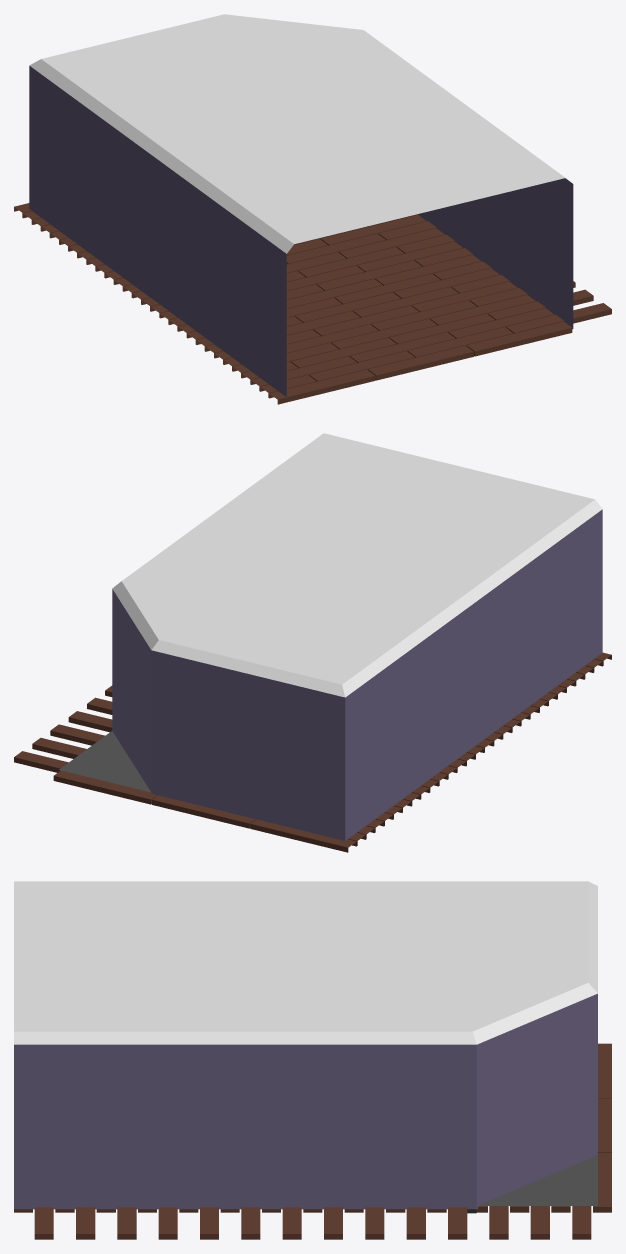
The model's file is livingRoom.fbx.
The picture shows the model from 3 angles, top to bottom: view 1: azimuth 30°, elevation 25°; view 2: azimuth 150°, elevation 25°; view 3: azimuth 270°, elevation 25°; orthographic projection. The views are drawn at different scales.
Parts seen in each view (by area): view 1: room; view 2: room; view 3: room.
Part boxes in pixels (box(x1,y1,x2,y2)): room: box(14, 14, 611, 404); room: box(14, 433, 611, 852); room: box(14, 881, 611, 1239).
Size of the model in its own units: 7.05 by 3.07 by 9.37.
